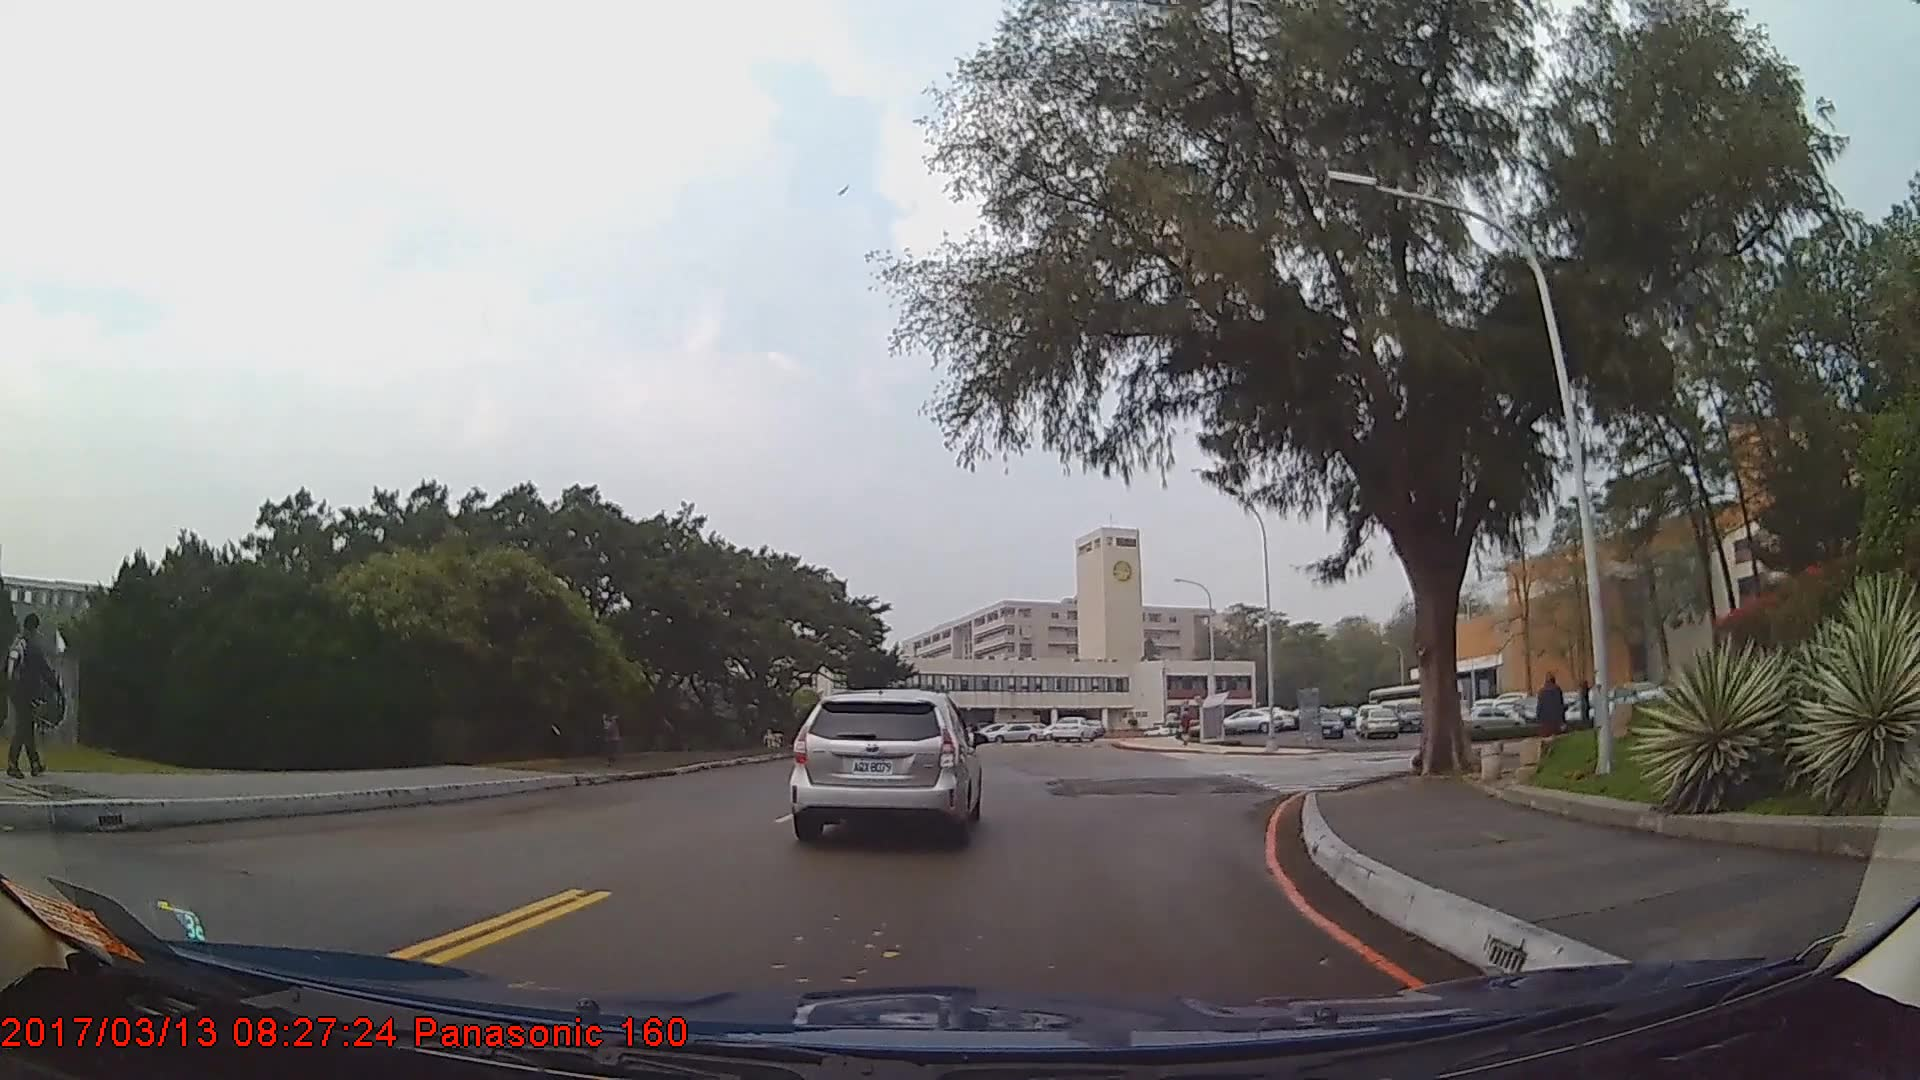pedestrian: (1, 604, 72, 785), (1537, 670, 1569, 761)
vehicle: (789, 686, 980, 848), (1453, 701, 1524, 733), (1219, 704, 1283, 731), (982, 715, 1045, 740), (1357, 703, 1400, 736), (1047, 714, 1096, 741), (1395, 702, 1429, 732), (1312, 708, 1342, 737)
